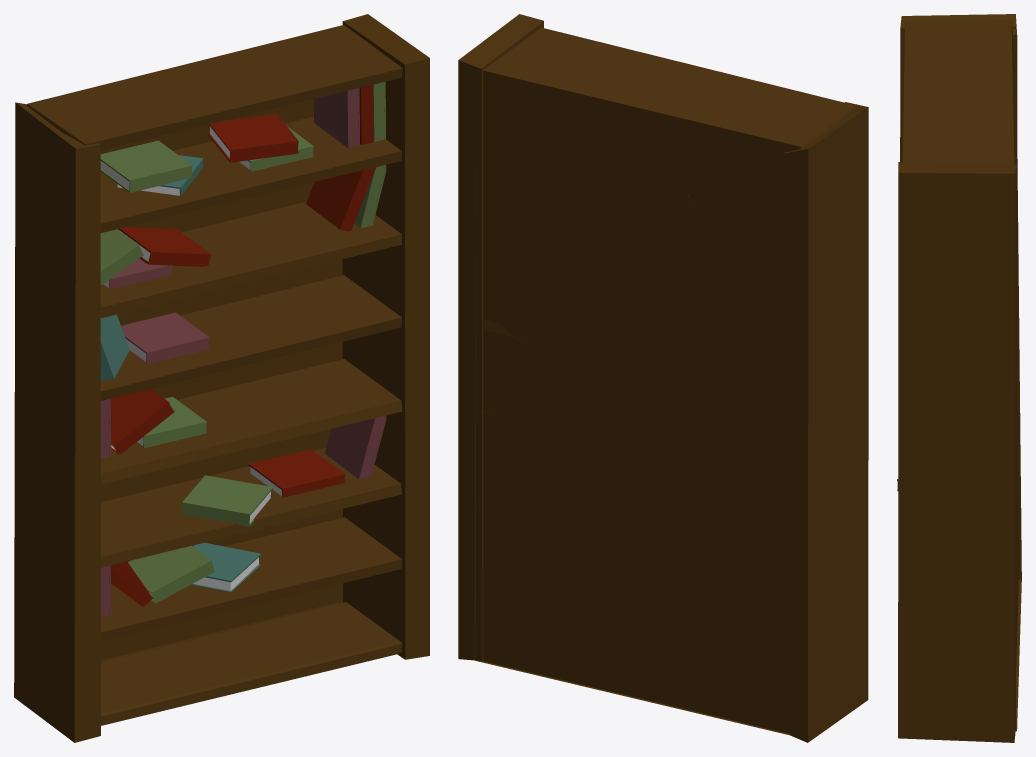
The model's file is libreriaLibros.fbx.
3 views of the same model, side by side, from view 1: azimuth 30°, elevation 25°; view 2: azimuth 150°, elevation 25°; view 3: azimuth 270°, elevation 25° (orthographic). The views are drawn at different scales.
Visible parts, largest first — view 1: Cube, Cube.001, Plane, Cube.009, Cube.002, Cube.005, Cube.006, Cube.007, Cube.003, Cube.004, Cube.008, Libro.044 (+16 smaller); view 2: Plane, Cube, Cube.009, Cube.001; view 3: Cube.001, Cube.009, Cube, Plane.
Part boxes in pixels (box(x1,y1,x2,y2)): Cube: box(14, 102, 100, 742); Cube.001: box(342, 14, 429, 659); Plane: box(100, 99, 342, 660); Cube.009: box(26, 25, 402, 150); Cube.002: box(101, 602, 402, 725); Cube.005: box(101, 359, 402, 484); Cube.006: box(100, 275, 401, 400); Cube.007: box(100, 201, 402, 318); Cube.003: box(101, 517, 402, 642); Cube.004: box(101, 447, 401, 567); Cube.008: box(100, 116, 401, 232); Libro.044: box(208, 113, 298, 162); Plane: box(474, 79, 792, 735); Cube: box(783, 102, 868, 742); Cube.009: box(483, 27, 855, 150); Cube.001: box(458, 14, 543, 660); Cube.001: box(898, 162, 1016, 742); Cube.009: box(902, 20, 1014, 164); Cube: box(900, 14, 1017, 371); Plane: box(1013, 26, 1021, 731).
Bounding box in the file's own units: 443 × 723 × 143.
